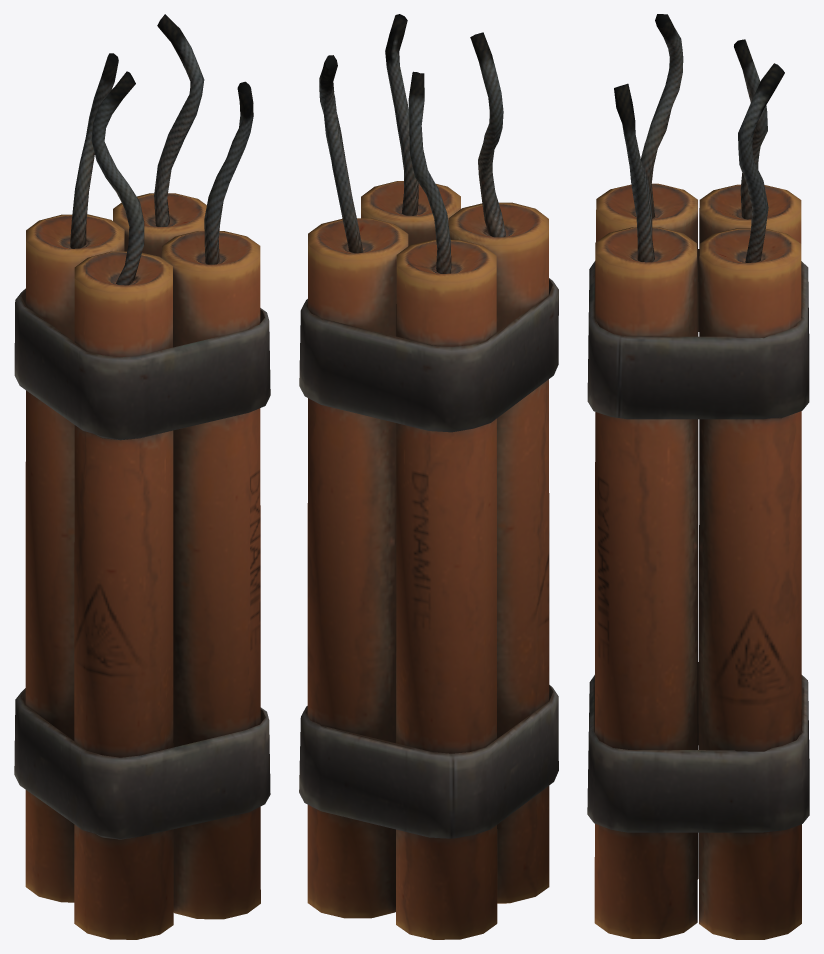
The model's file is dynamite-bundle-grip.glb.
The picture shows the model from 3 angles, left to right: view 1: azimuth 30°, elevation 25°; view 2: azimuth 150°, elevation 25°; view 3: azimuth 270°, elevation 25°; orthographic projection. The views are drawn at different scales.
Parts seen in each view (by area): view 1: dynapickup_dynapickup_0; view 2: dynapickup_dynapickup_0; view 3: dynapickup_dynapickup_0.
Boxes of the visible parts, left/top/right/bottom form: dynapickup_dynapickup_0: left=14, top=14, right=270, bottom=939; dynapickup_dynapickup_0: left=299, top=14, right=558, bottom=939; dynapickup_dynapickup_0: left=587, top=14, right=809, bottom=939.
Size of the model in its own units: 0.0726 by 0.32 by 0.074.
1 material, 1 textured.
